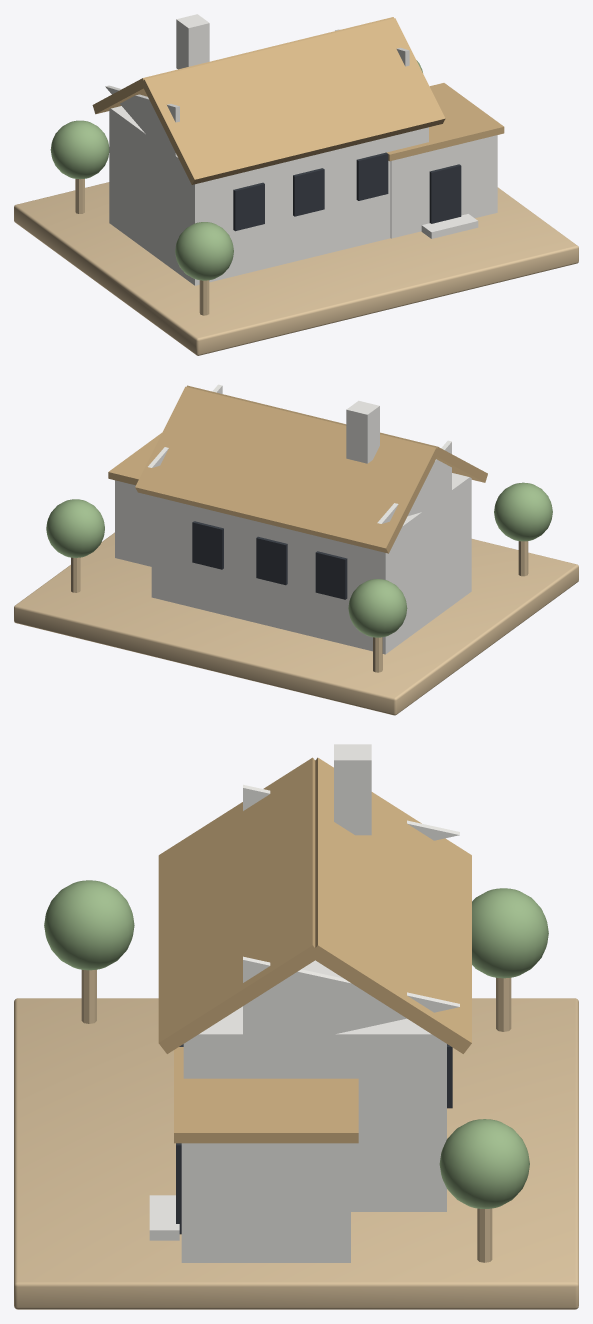
The model's file is herodesk-arch-model-house.glb.
3 views of the same model, one above another, from view 1: azimuth 30°, elevation 25°; view 2: azimuth 150°, elevation 25°; view 3: azimuth 270°, elevation 25° (orthographic). The views are drawn at different scales.
Parts seen in each view (by area): view 1: herodesk-arch-model-house · mesh; view 2: herodesk-arch-model-house · mesh; view 3: herodesk-arch-model-house · mesh.
Boxes of the visible parts, x1,y1,x2,y2 form: herodesk-arch-model-house · mesh: (14, 14, 578, 355); herodesk-arch-model-house · mesh: (14, 384, 578, 715); herodesk-arch-model-house · mesh: (14, 744, 578, 1309).
Size of the model in its own units: 0.18 by 0.103 by 0.15.
